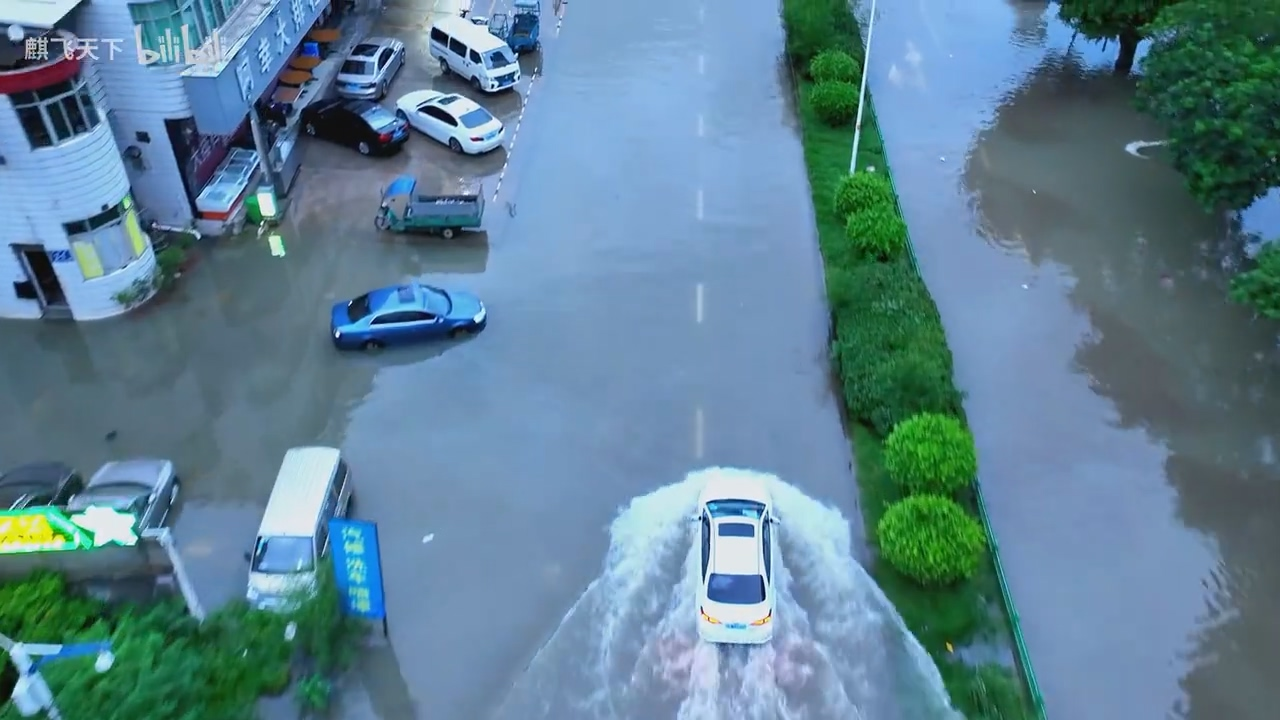puddle: (456, 115, 1268, 720)
